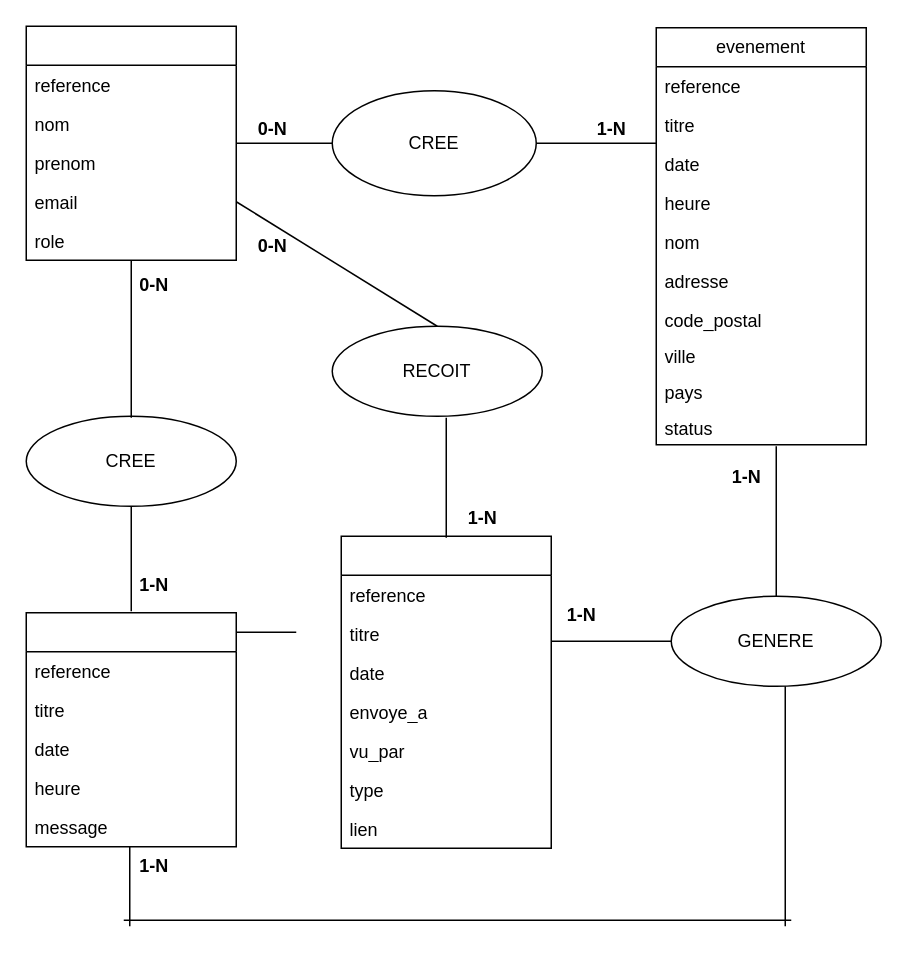
The diagram is 908 pixels wide and 953 high, and some of its shapes have lost their labels. The shapes that lost their labels are listed below. From the top down, each one's box as (x1, y1, x2, y2) in pixels, then its label:
(25, 25, 236, 260): utilisateur
(340, 535, 551, 848): notification
(25, 611, 236, 847): annonce
